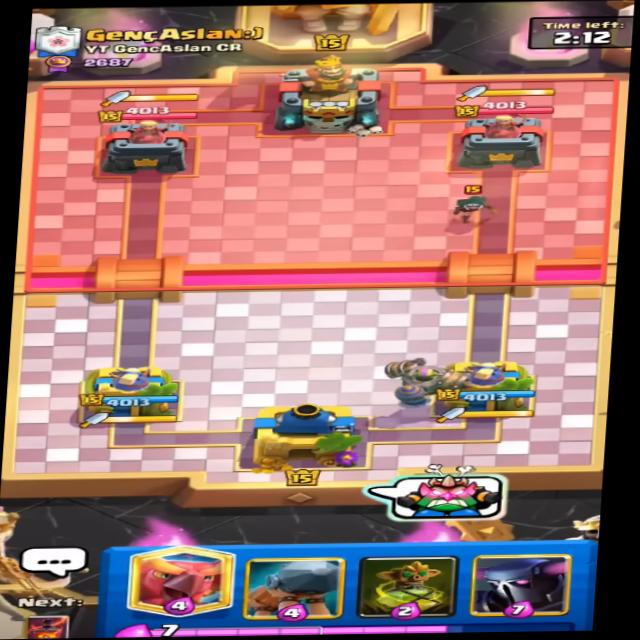bandit: (428, 180, 507, 224)
